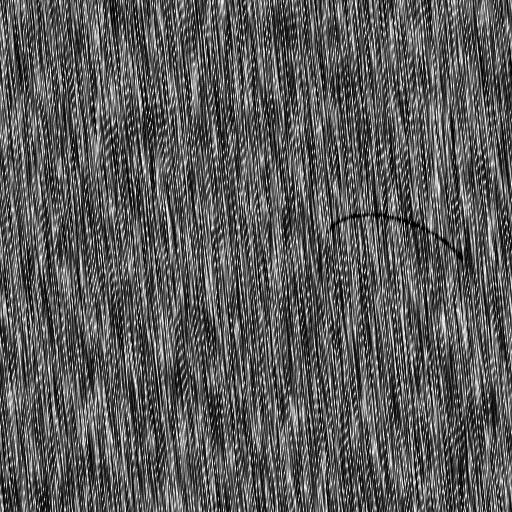DefectTypeC: (328, 215, 465, 258)
